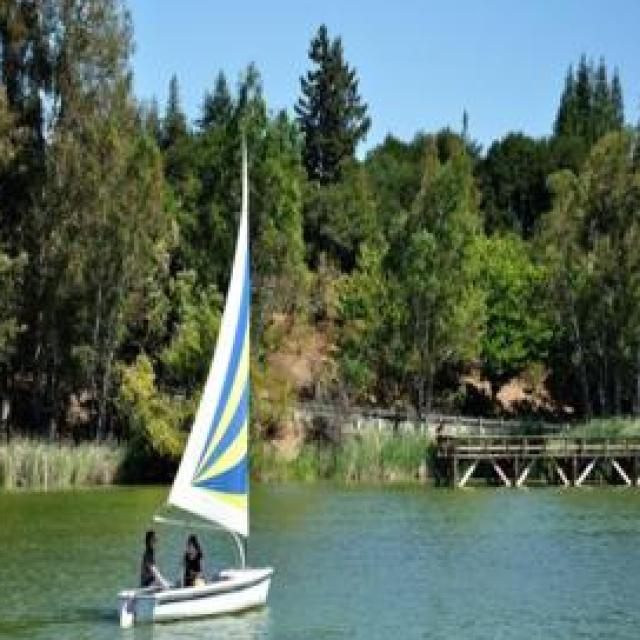sailboat: (101, 118, 275, 621)
